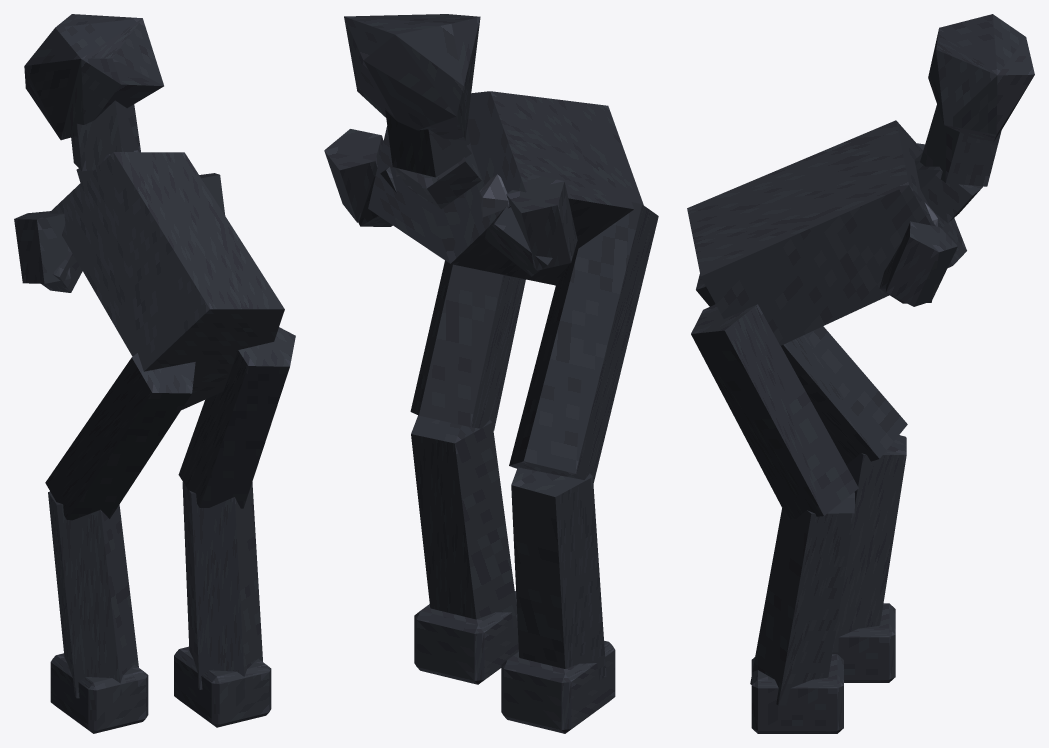
File: f_glassedbody_9.glb
The picture shows the model from 3 angles, left to right: view 1: azimuth 30°, elevation 25°; view 2: azimuth 150°, elevation 25°; view 3: azimuth 270°, elevation 25°; orthographic projection. The views are drawn at different scales.
Visible parts, largest first — view 1: block_angular-torso-1, block_faceted-glass-leg-1 (×2), block_faceted-glass-leg-2 (×2), block_angular-black-glass-head, block_solid-glass-foot (×2), block_angular-glass-arm-1 (×2), block_vitrified-neck-2, block_angular-glass-arm-2; view 2: block_faceted-glass-leg-2 (×2), block_faceted-glass-leg-1 (×2), block_angular-torso-1, block_angular-black-glass-head, block_solid-glass-foot (×2), block_angular-glass-arm-1 (×2), block_vitrified-neck-2, block_angular-glass-arm-2 (×2), block_vitrified-neck-1, block_glass-hand; view 3: block_angular-torso-1, block_faceted-glass-leg-2 (×2), block_faceted-glass-leg-1 (×2), block_angular-black-glass-head, block_solid-glass-foot (×2), block_angular-glass-arm-1, block_vitrified-neck-2, block_vitrified-neck-1.
Part boxes in pixels (left/top/right/bottom): block_angular-torso-1: left=49, top=152, right=284, bottom=409; block_faceted-glass-leg-1 (×2): left=48, top=482, right=262, bottom=698; block_faceted-glass-leg-2 (×2): left=45, top=327, right=295, bottom=520; block_angular-black-glass-head: left=24, top=14, right=163, bottom=140; block_solid-glass-foot (×2): left=50, top=646, right=271, bottom=733; block_angular-glass-arm-1 (×2): left=14, top=173, right=225, bottom=283; block_vitrified-neck-2: left=71, top=100, right=140, bottom=171; block_angular-glass-arm-2: left=41, top=245, right=82, bottom=292; block_faceted-glass-leg-2 (×2): left=410, top=202, right=658, bottom=483; block_faceted-glass-leg-1 (×2): left=411, top=415, right=606, bottom=679; block_angular-torso-1: left=368, top=91, right=643, bottom=285; block_angular-black-glass-head: left=344, top=14, right=480, bottom=140; block_solid-glass-foot (×2): left=414, top=591, right=615, bottom=733; block_angular-glass-arm-1 (×2): left=324, top=129, right=577, bottom=270; block_vitrified-neck-2: left=385, top=110, right=471, bottom=177; block_angular-glass-arm-2 (×2): left=358, top=166, right=552, bottom=276; block_vitrified-neck-1: left=395, top=149, right=481, bottom=208; block_glass-hand: left=479, top=174, right=508, bottom=217; block_angular-torso-1: left=687, top=120, right=966, bottom=345; block_faceted-glass-leg-2 (×2): left=691, top=274, right=907, bottom=519; block_faceted-glass-leg-1 (×2): left=750, top=435, right=906, bottom=705; block_angular-black-glass-head: left=928, top=14, right=1034, bottom=142; block_solid-glass-foot (×2): left=751, top=603, right=895, bottom=733; block_angular-glass-arm-1: left=886, top=221, right=957, bottom=306; block_vitrified-neck-2: left=920, top=104, right=1001, bottom=186; block_vitrified-neck-1: left=914, top=153, right=983, bottom=222.
Size of the model in its own units: 0.4239 by 1.27 by 0.599.
1 material, 1 textured.
